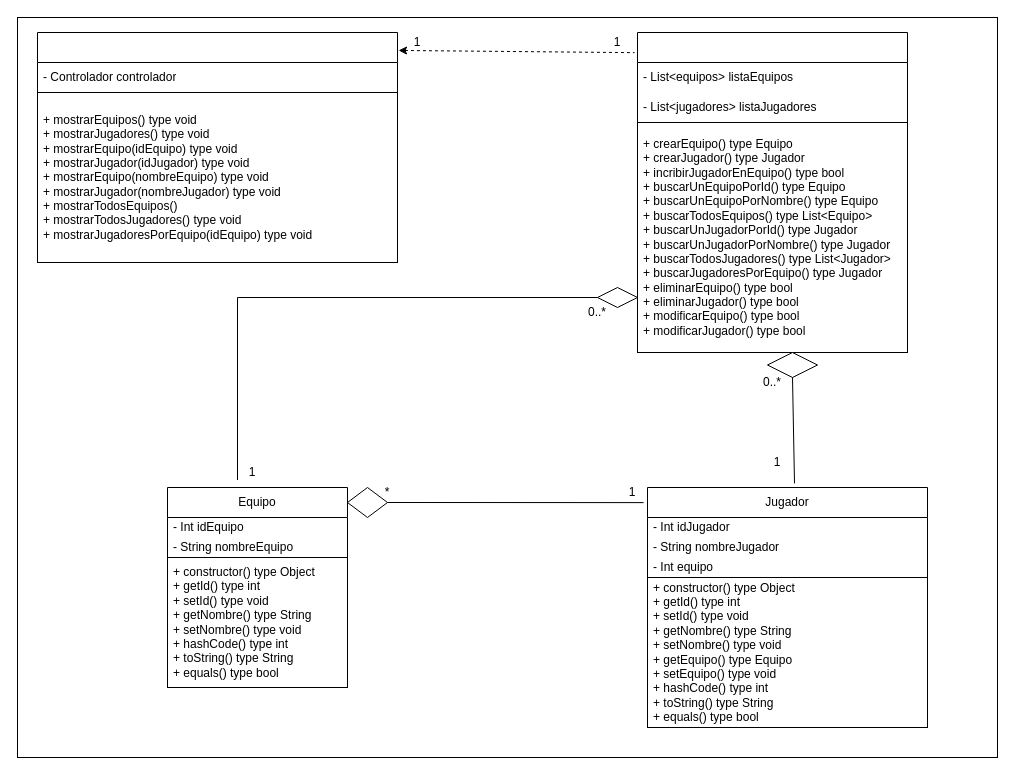
Image size: 1015x775. Some labels were removed from this diagram. Each missing label, with the box of its shape:
Controlador: (636, 32, 908, 352)
Vista: (36, 32, 398, 262)
